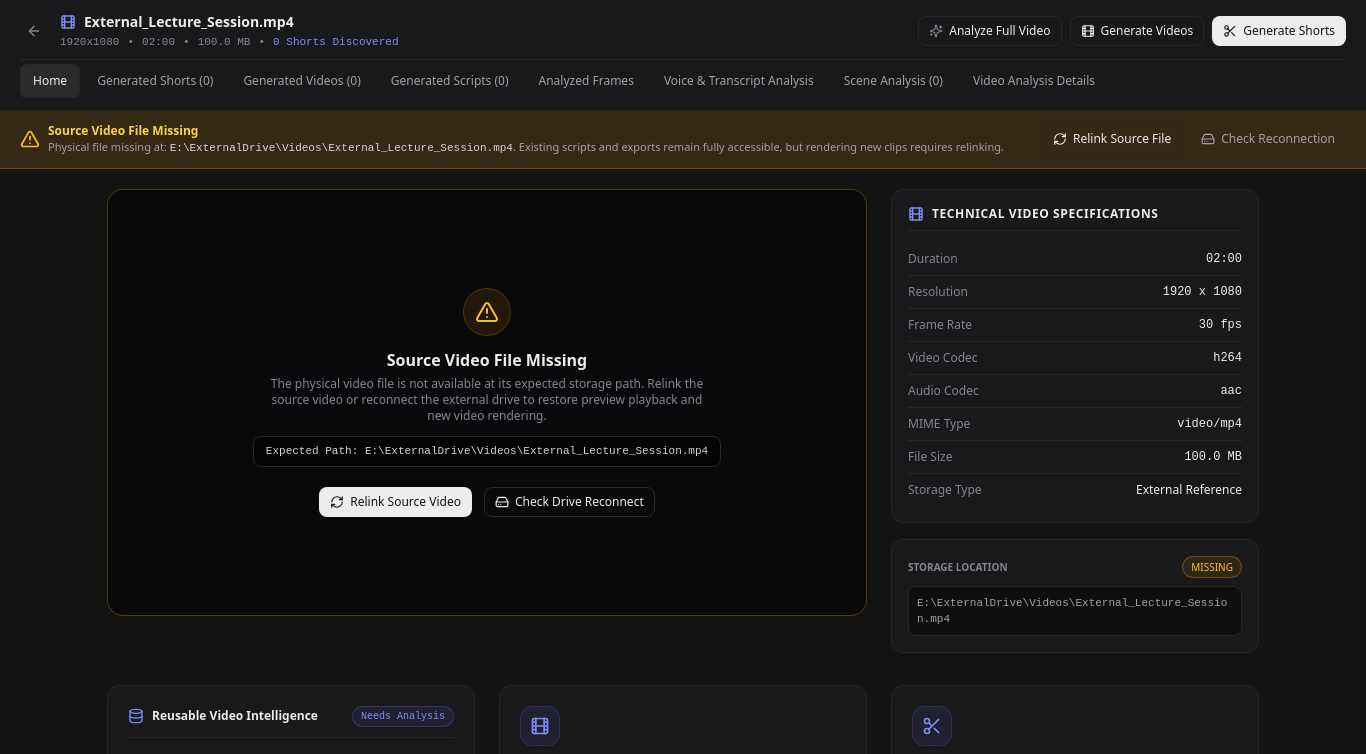
Scenario: P1.7 Media Relinking, Missing File Recovery & External Media Handling › renders top warning banner and replaces video player when source media is missing in VideoEditDashboard
Expected: the text "Physical file missing at:" is shown, [48,138,170,154]
Expected: the text "Relink the source video or reconnect the external drive" is shown, [271,375,703,424]
// Check that clicking Relink opens modal
What coordinates should you click on to do the following:
click the button "Relink Source File"
I would click on:
 (1112, 139)
Its box is [1042,124,1182,154].
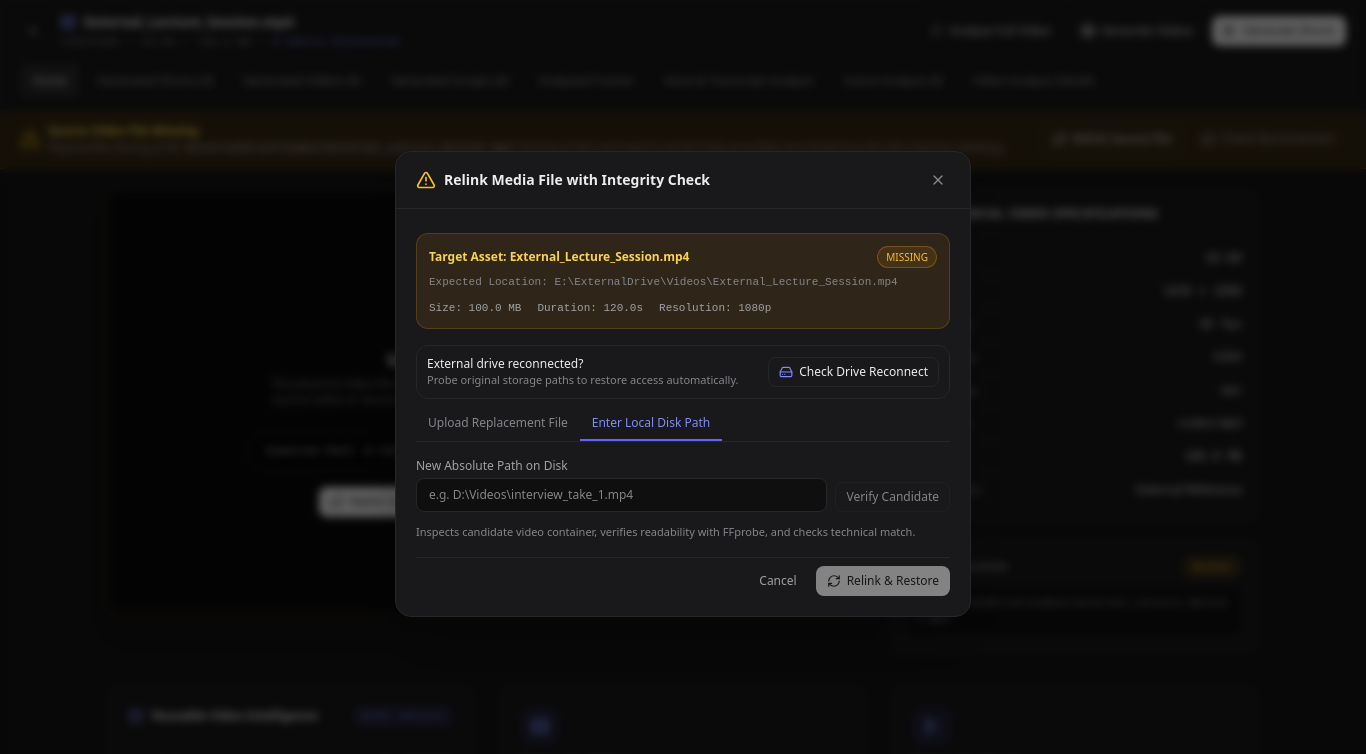
Expected: the text "Relink Media File with Integrity Check" is shown, [444,170,710,190]
